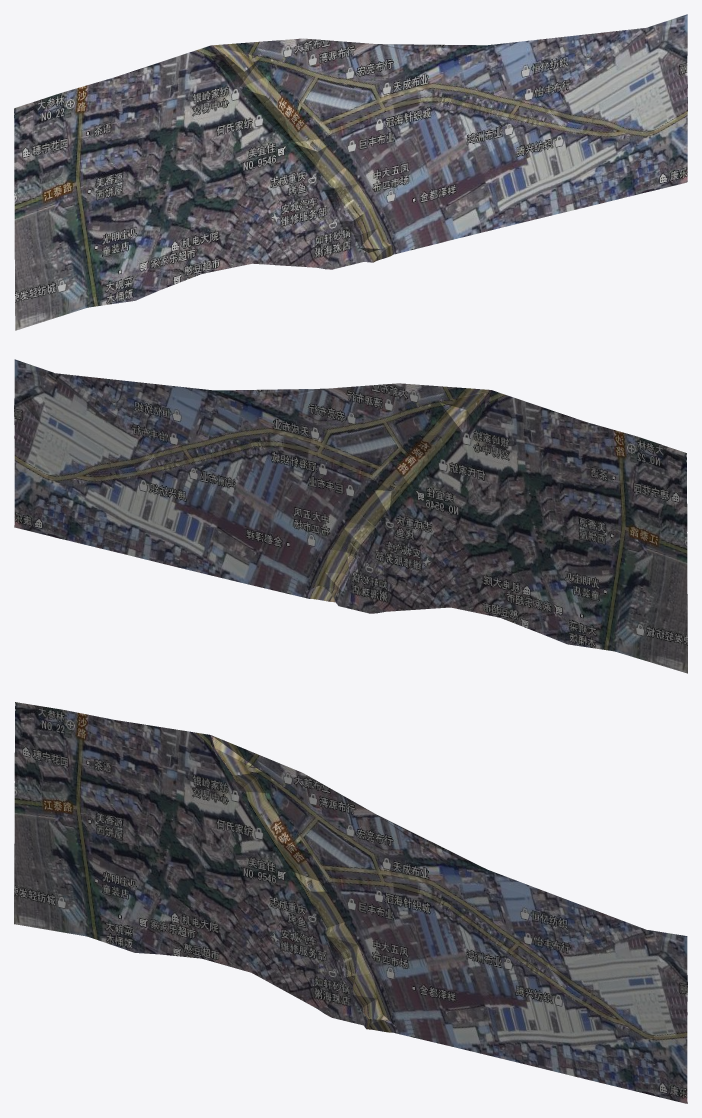
3 views of the same model, one above another, from view 1: azimuth 30°, elevation 25°; view 2: azimuth 150°, elevation 25°; view 3: azimuth 330°, elevation 25° (orthographic).
Visible parts, largest first — view 1: 0_3_1_2_2; view 2: 0_3_1_2_2; view 3: 0_3_1_2_2.
Boxes of the visible parts, x1,y1,x2,y2 form: 0_3_1_2_2: (14,14,687,330); 0_3_1_2_2: (14,359,687,673); 0_3_1_2_2: (14,702,687,1103).
Size of the model in its own units: 972 by 350 by 14.39.
1 material, 1 textured.
